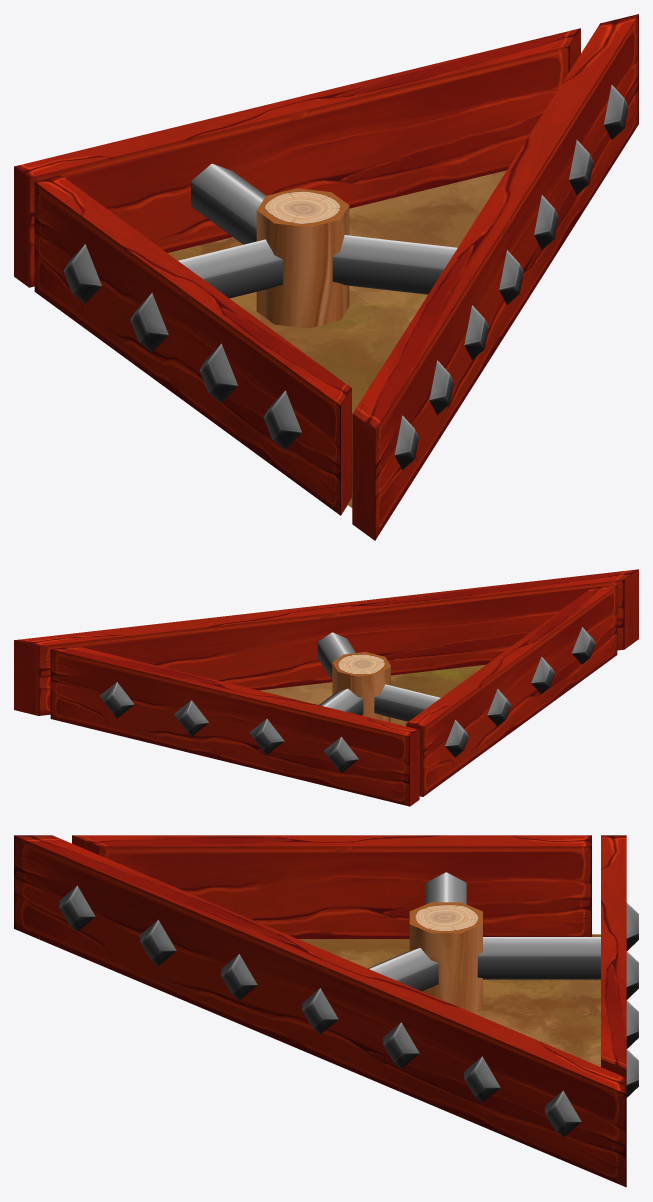
Rendered from triangle_red_04.fbx.
The picture shows the model from 3 angles, top to bottom: view 1: azimuth 30°, elevation 25°; view 2: azimuth 150°, elevation 25°; view 3: azimuth 270°, elevation 25°; orthographic projection. The views are drawn at different scales.
Visible parts, largest first — view 1: wall_57, wall_55, wall_56, floor_10, Middle_5; view 2: wall_55, wall_57, wall_56, floor_10, Middle_5; view 3: wall_55, wall_56, wall_57, floor_10, Middle_5.
Part boxes in pixels (bbox=[...]): wall_57: bbox=[14, 28, 580, 287]; wall_55: bbox=[332, 14, 638, 540]; wall_56: bbox=[34, 175, 351, 515]; floor_10: bbox=[167, 170, 506, 507]; Middle_5: bbox=[256, 188, 349, 328]; wall_55: bbox=[14, 569, 638, 715]; wall_57: bbox=[50, 646, 419, 806]; wall_56: bbox=[374, 585, 617, 796]; floor_10: bbox=[259, 664, 485, 726]; Middle_5: bbox=[332, 652, 390, 722]; wall_55: bbox=[14, 835, 626, 1187]; wall_56: bbox=[72, 835, 591, 938]; wall_57: bbox=[477, 835, 638, 1097]; floor_10: bbox=[298, 934, 600, 1066]; Middle_5: bbox=[409, 902, 482, 1013].
Bounding box in the file's own units: 243 × 40 × 242.
